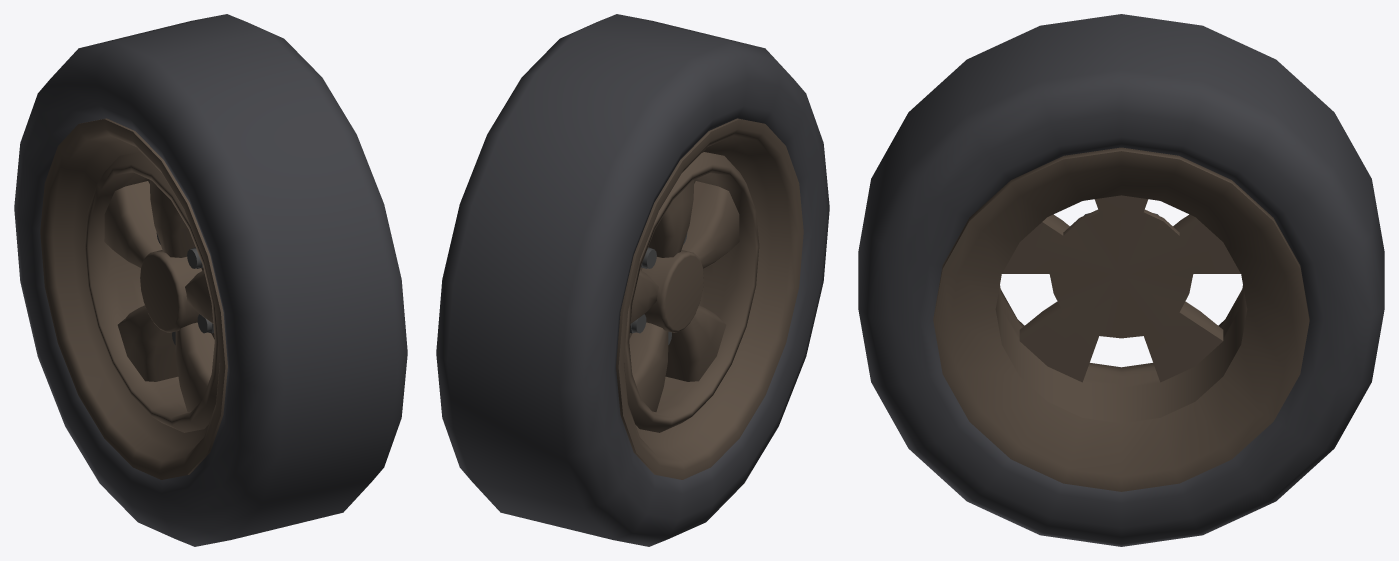
File: toye_car_tire_v01.fbx
The picture shows the model from 3 angles, left to right: view 1: azimuth 30°, elevation 25°; view 2: azimuth 150°, elevation 25°; view 3: azimuth 270°, elevation 25°; orthographic projection.
Parts seen in each view (by area): view 1: car_tire; view 2: car_tire; view 3: car_tire.
Boxes of the visible parts, box(x1,y1,x2,y2) form: car_tire: box(14, 14, 407, 546); car_tire: box(436, 14, 829, 546); car_tire: box(858, 14, 1384, 546).
Bounding box in the file's own units: 22.65 × 62.38 × 62.38.
